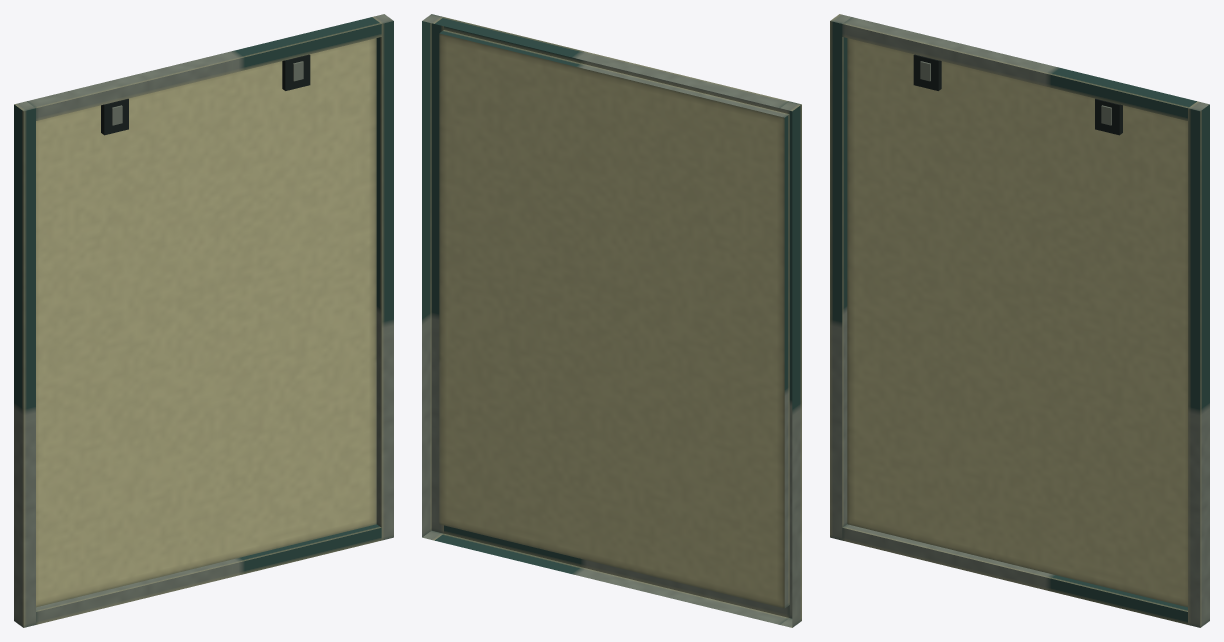
Rendered from SM_LabPanel_ChartBoard_90x4x120.fbx.
The picture shows the model from 3 angles, left to right: view 1: azimuth 30°, elevation 25°; view 2: azimuth 150°, elevation 25°; view 3: azimuth 330°, elevation 25°; orthographic projection.
Visible parts, largest first — view 1: SM_LabPanel_ChartBoard_90x4x120.001; view 2: SM_LabPanel_ChartBoard_90x4x120.001; view 3: SM_LabPanel_ChartBoard_90x4x120.001.
Part boxes in pixels (<box>): SM_LabPanel_ChartBoard_90x4x120.001: <box>14,14,393,627</box>; SM_LabPanel_ChartBoard_90x4x120.001: <box>422,14,801,627</box>; SM_LabPanel_ChartBoard_90x4x120.001: <box>830,14,1209,627</box>.
Bounding box in the file's own units: 0.9 × 1.2 × 0.04.
